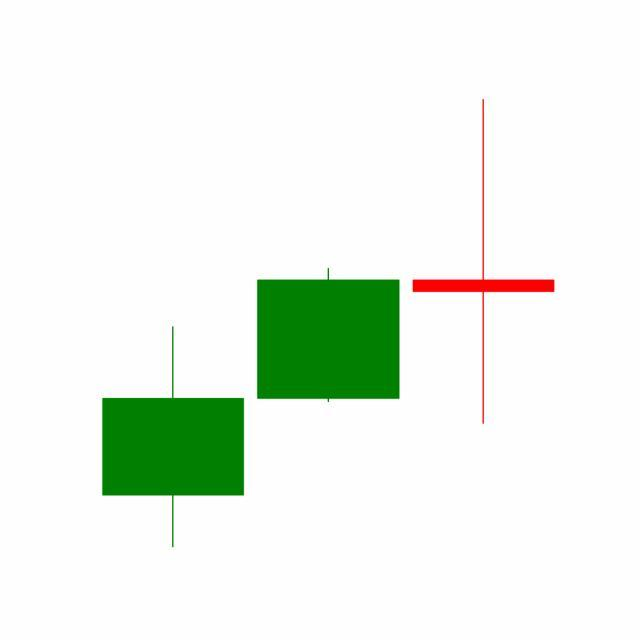Spinning Top: (406, 96, 562, 428)
